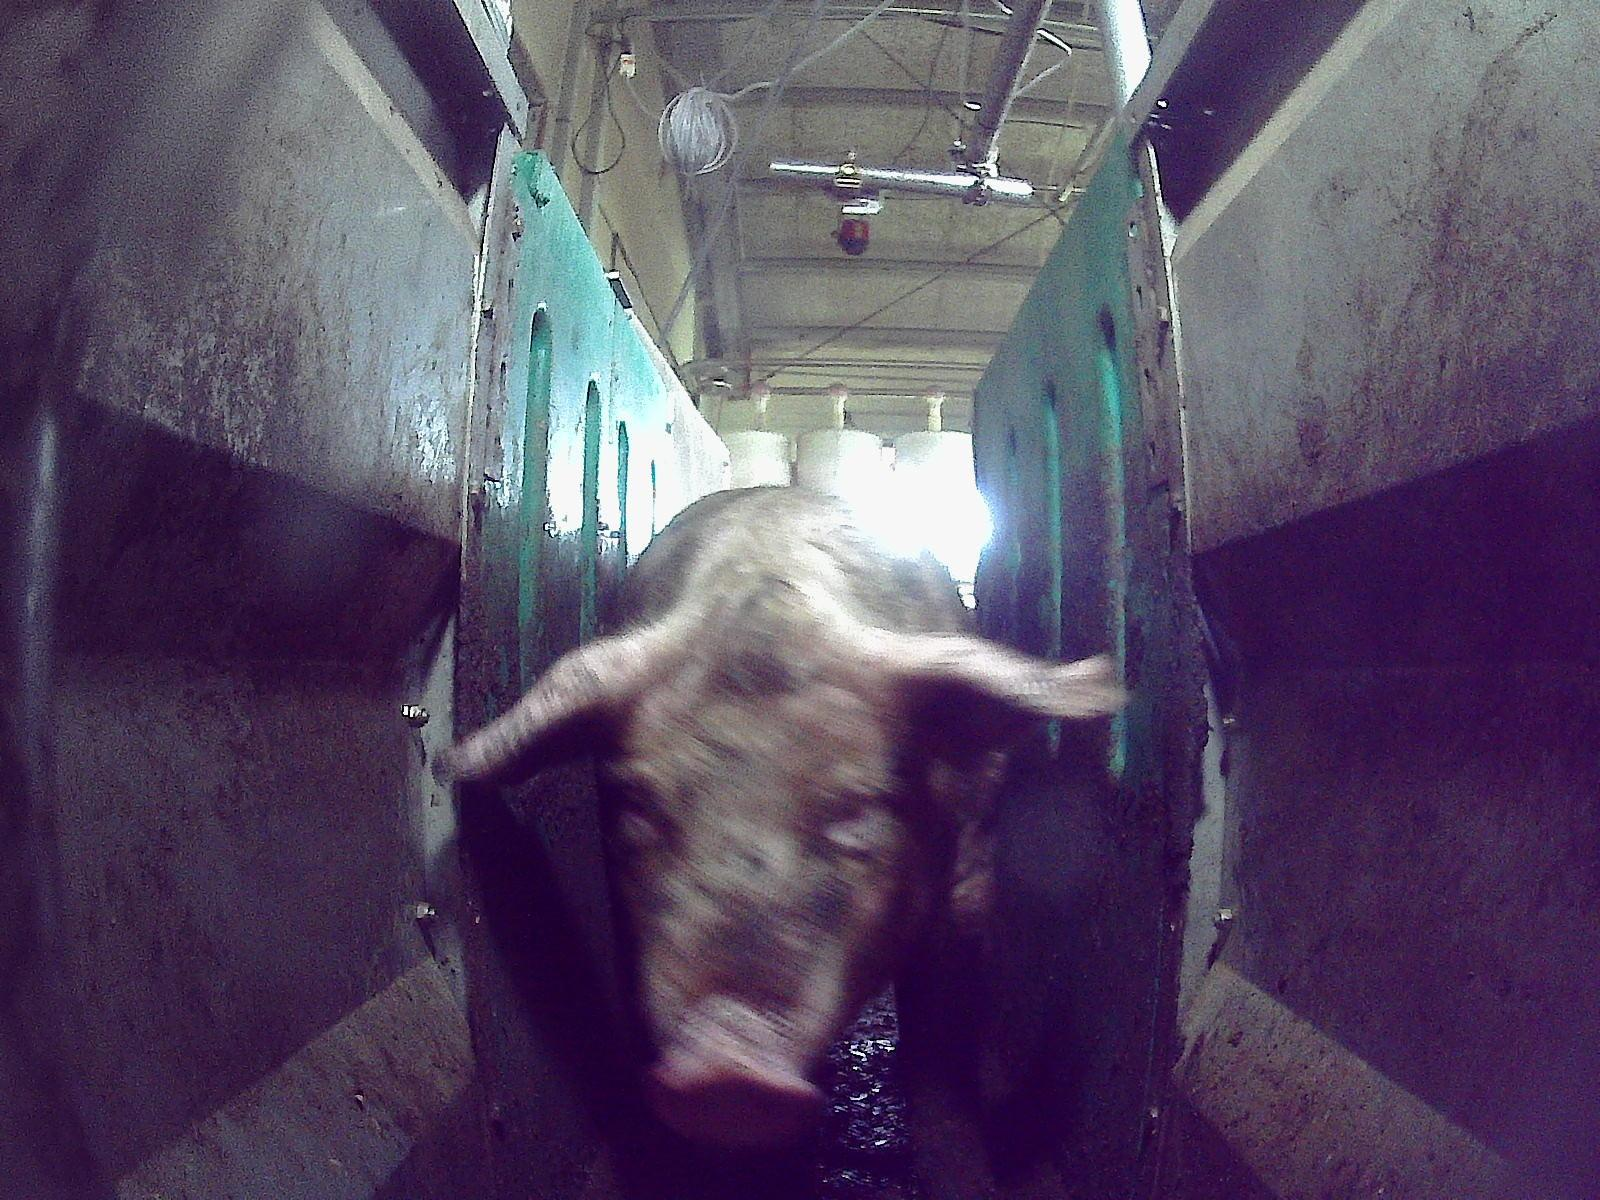Face: (615, 660, 917, 1149)
